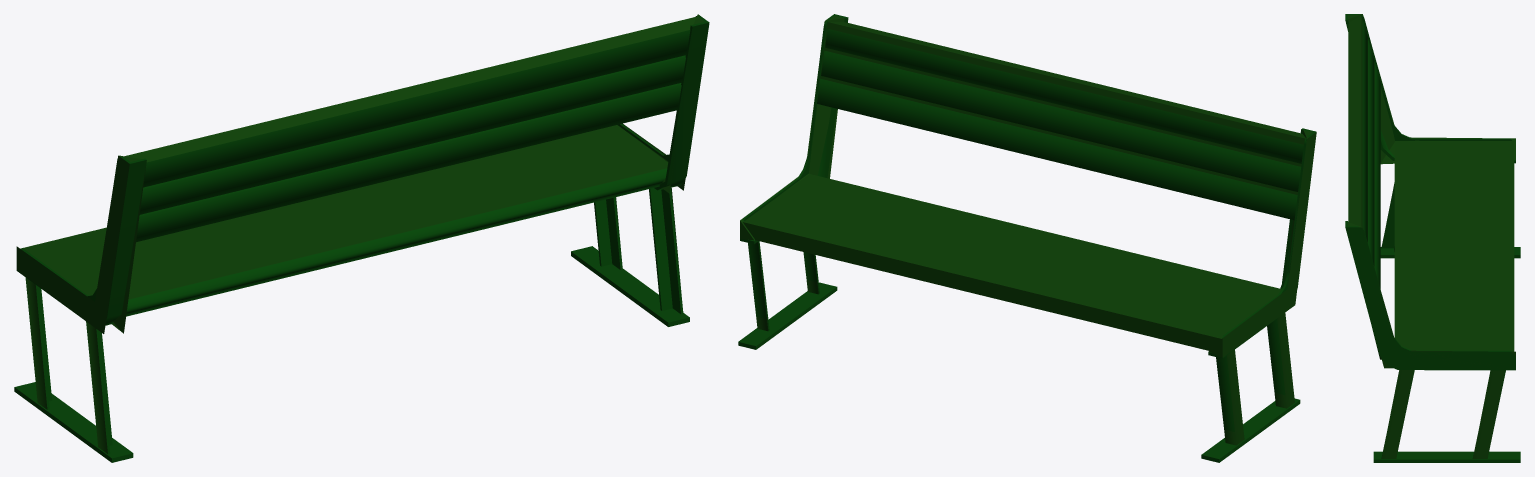
File: bank_gruen.glb
3 renders of one model, left to right at view 1: azimuth 30°, elevation 25°; view 2: azimuth 150°, elevation 25°; view 3: azimuth 270°, elevation 25°, orthographic. The views are drawn at different scales.
Visible parts, largest first — view 1: Park_Bench_2__LOD3, Park_Bench_2__LOD1; view 2: Park_Bench_2__LOD1, Park_Bench_2__LOD3; view 3: Park_Bench_2__LOD1, Park_Bench_2__LOD3.
Boxes of the visible parts, x1=… form: Park_Bench_2__LOD3: x1=14, y1=16, x2=709, y2=462; Park_Bench_2__LOD1: x1=16, y1=14, x2=704, y2=453; Park_Bench_2__LOD1: x1=740, y1=15, x2=1316, y2=445; Park_Bench_2__LOD3: x1=738, y1=14, x2=1316, y2=462; Park_Bench_2__LOD1: x1=1346, y1=14, x2=1515, y2=458; Park_Bench_2__LOD3: x1=1345, y1=14, x2=1520, y2=462.
Bounding box in the file's own units: 2.36 × 1.22 × 0.8187.
